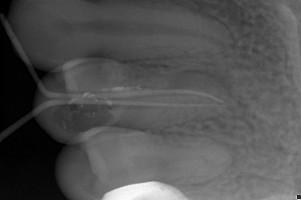Furcation Involvement: (183, 67, 234, 96)
